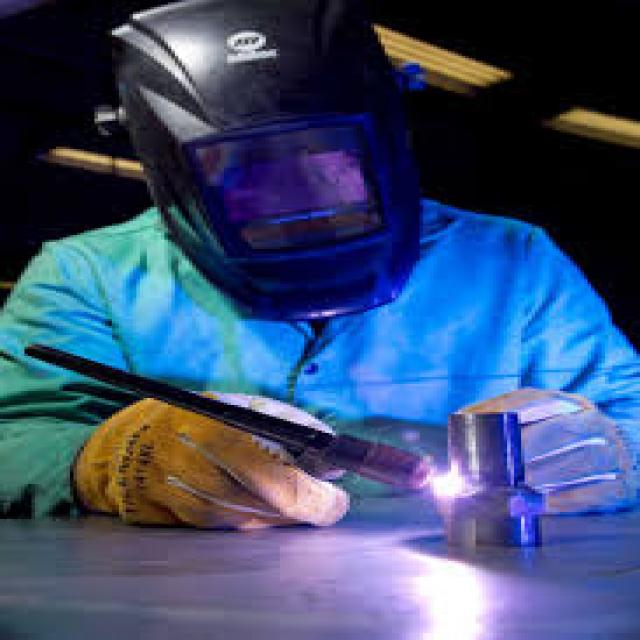welding: (426, 467, 481, 499)
